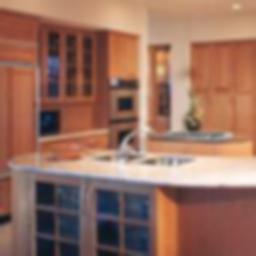Lavaplatos: (88, 124, 200, 173)
